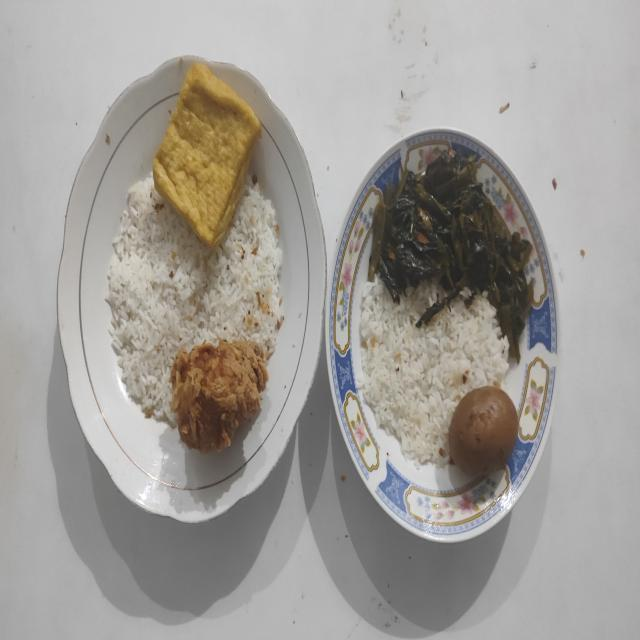nasi_putih: (105, 179, 284, 424), (359, 278, 509, 468)
tahu_goreng: (154, 64, 262, 250)
tumis_kangkung: (368, 150, 534, 362)
